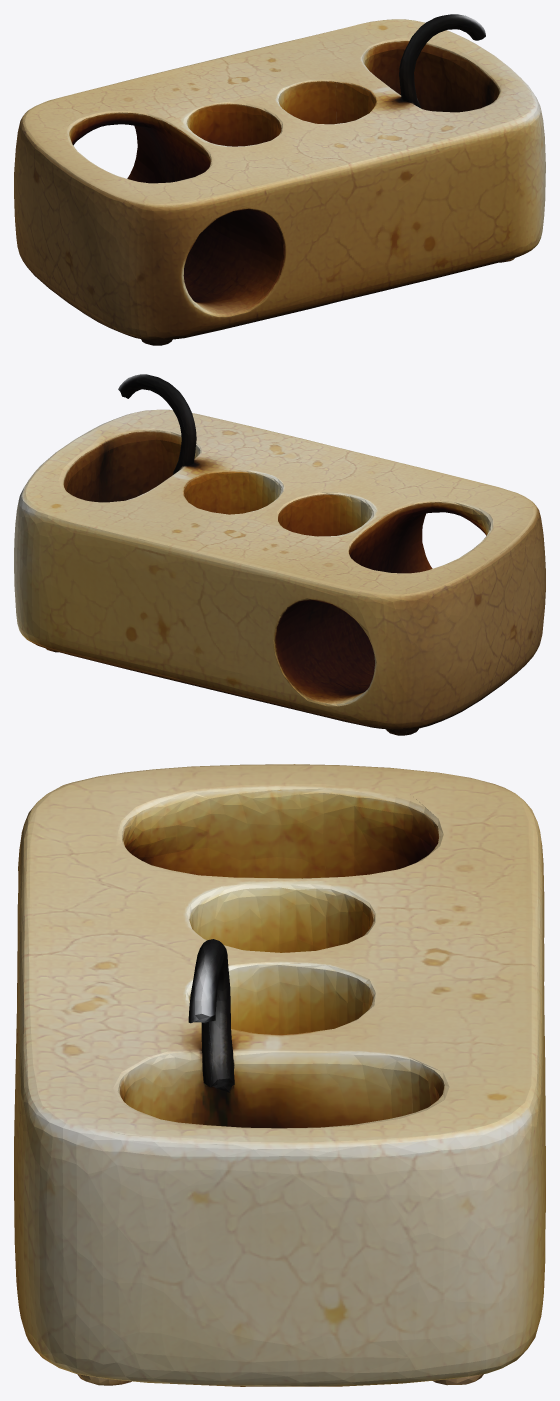
File: cork-cable-organizer-rustic.jpeg.glb
The picture shows the model from 3 angles, top to bottom: view 1: azimuth 30°, elevation 25°; view 2: azimuth 150°, elevation 25°; view 3: azimuth 270°, elevation 25°; orthographic projection. The views are drawn at different scales.
Parts seen in each view (by area): view 1: world; view 2: world; view 3: world.
Boxes of the visible parts, left/top/right/bottom form: world: left=14, top=14, right=545, bottom=345; world: left=14, top=374, right=545, bottom=735; world: left=14, top=764, right=545, bottom=1386.
Bounding box in the file's own units: 0.9998 × 0.4844 × 0.5774.
1 material, 1 textured.
